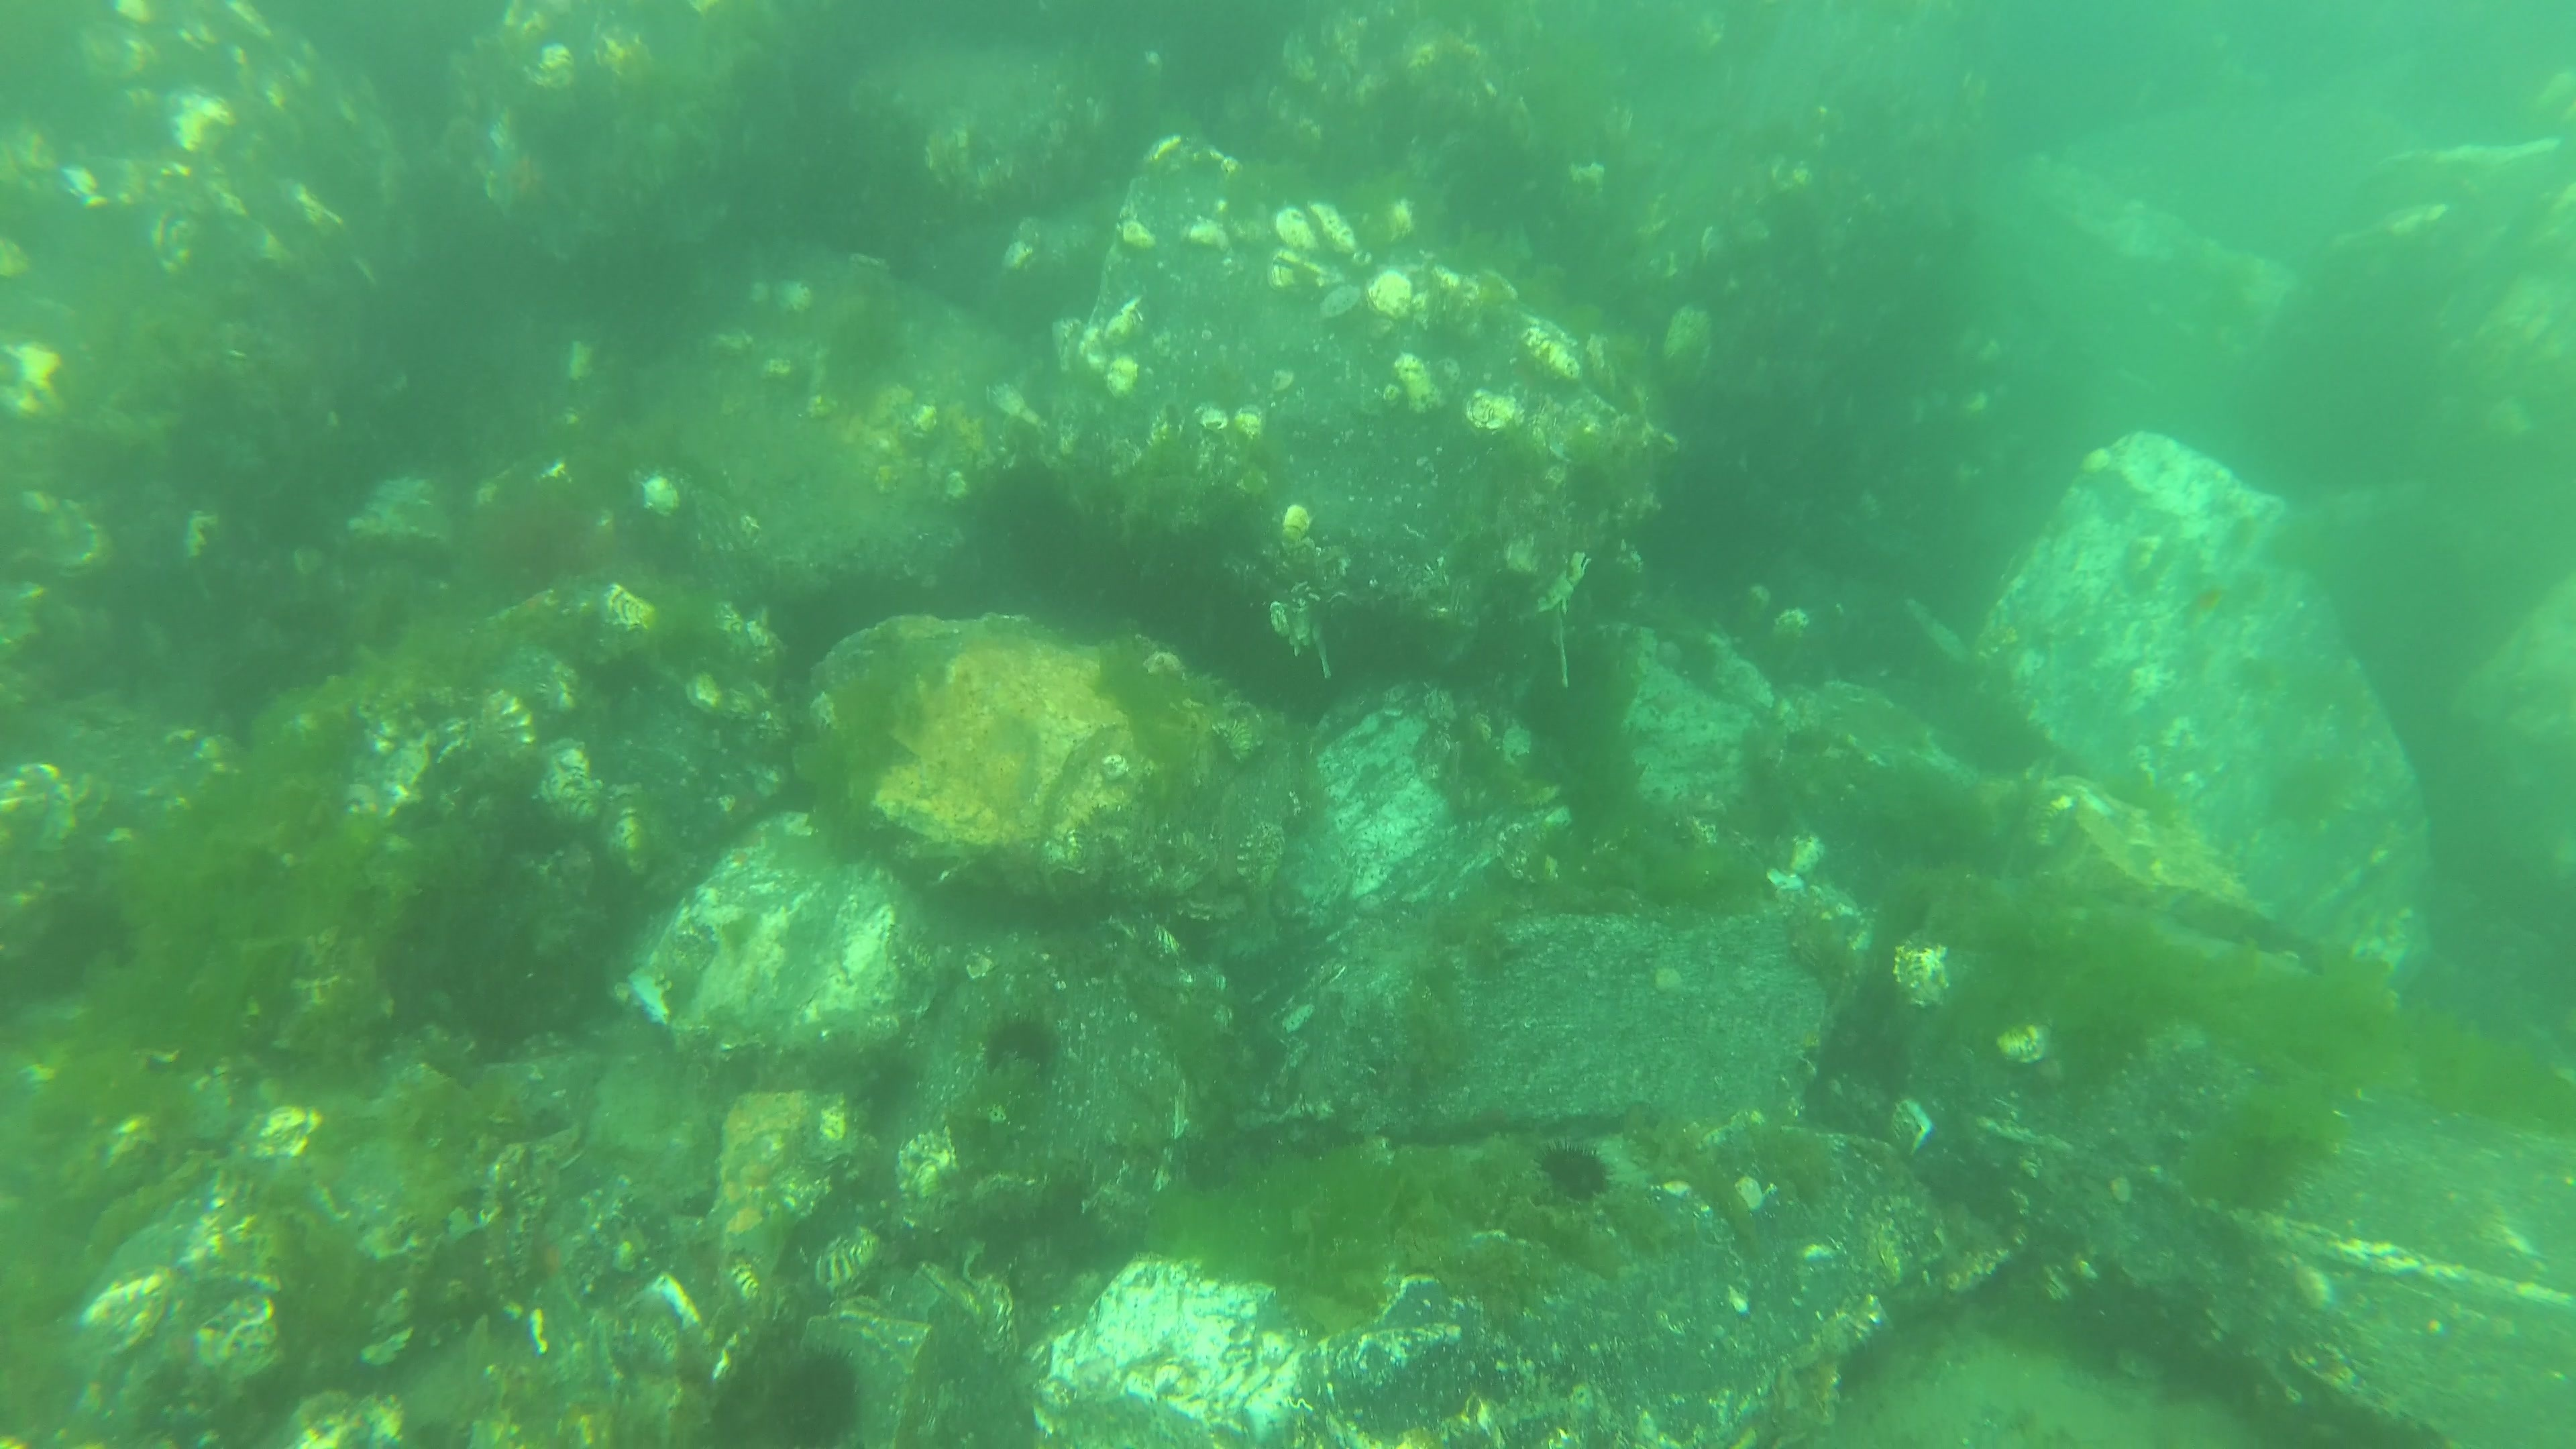echinus: (770, 1359, 863, 1449), (1536, 1138, 1612, 1203), (982, 1016, 1058, 1079)
